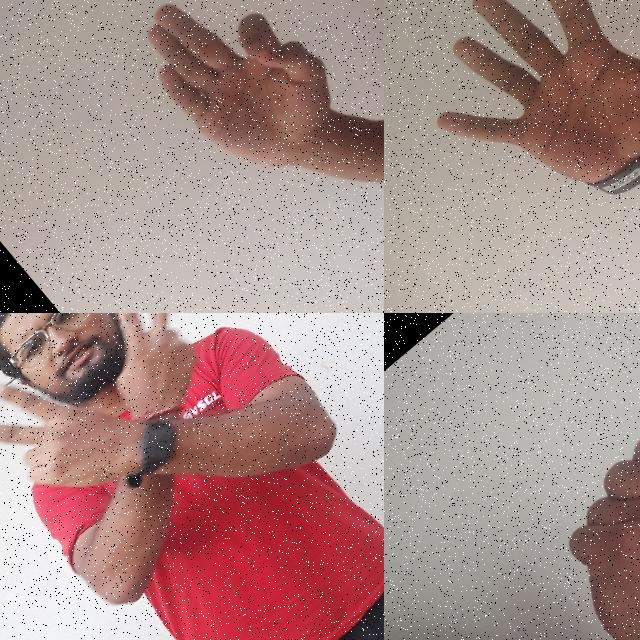Dulya: (503, 389, 640, 640)
Moutza: (384, 0, 640, 268)
Okay: (112, 0, 384, 223)
Reversed Victory: (0, 329, 157, 552), (55, 313, 251, 439)
